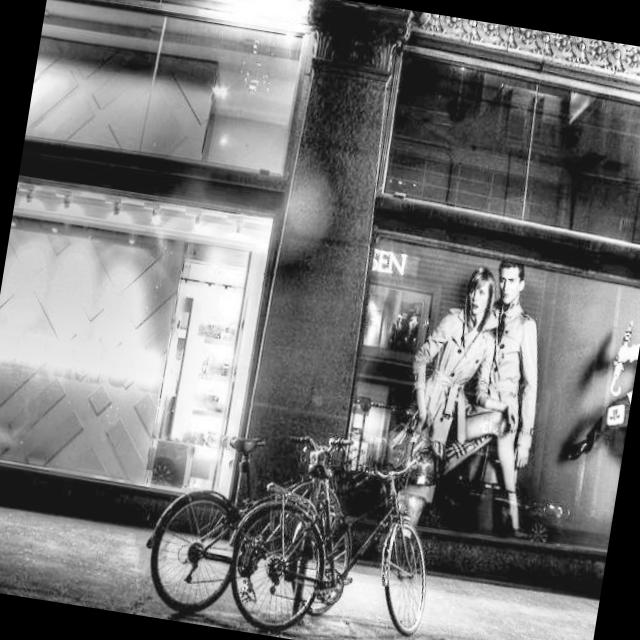Bicycle: (95, 377, 348, 640), (208, 413, 446, 640)
